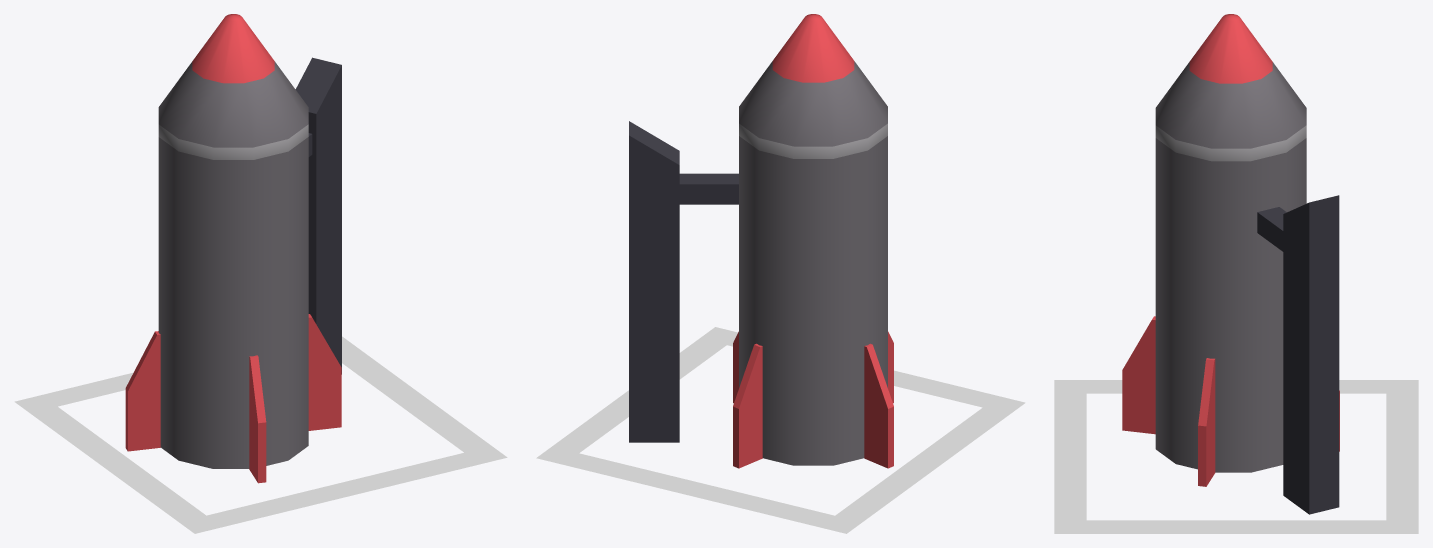
File: NuclearMissle 2.fbx
The picture shows the model from 3 angles, left to right: view 1: azimuth 30°, elevation 25°; view 2: azimuth 150°, elevation 25°; view 3: azimuth 270°, elevation 25°; orthographic projection.
Visible parts, largest first — view 1: Nuclear Missle, Nuclear Missle.Base; view 2: Nuclear Missle, Nuclear Missle.Base; view 3: Nuclear Missle, Nuclear Missle.Base.
Part boxes in pixels (x1,y1,x2,y2): Nuclear Missle: (125,14,341,483); Nuclear Missle.Base: (14,57,507,533); Nuclear Missle: (733,14,893,468); Nuclear Missle.Base: (536,121,1025,533); Nuclear Missle: (1122,14,1339,486); Nuclear Missle.Base: (1054,195,1418,533).
Size of the model in its own units: 238 by 308 by 238.
